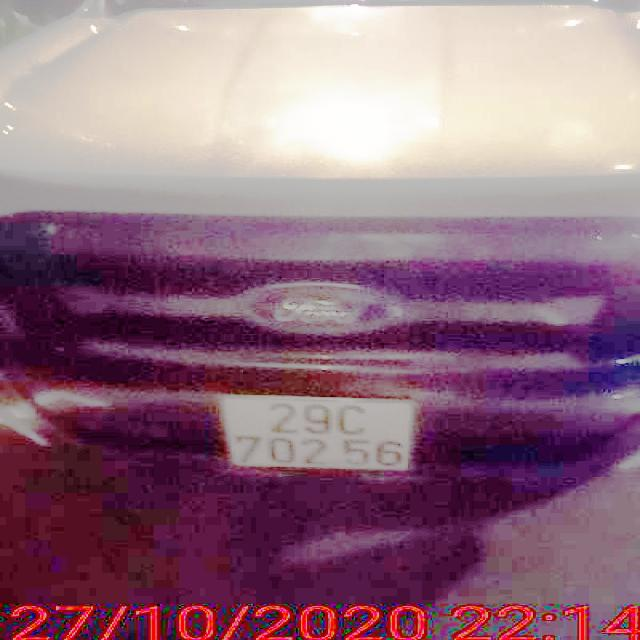license_plate: (223, 395, 417, 472)
